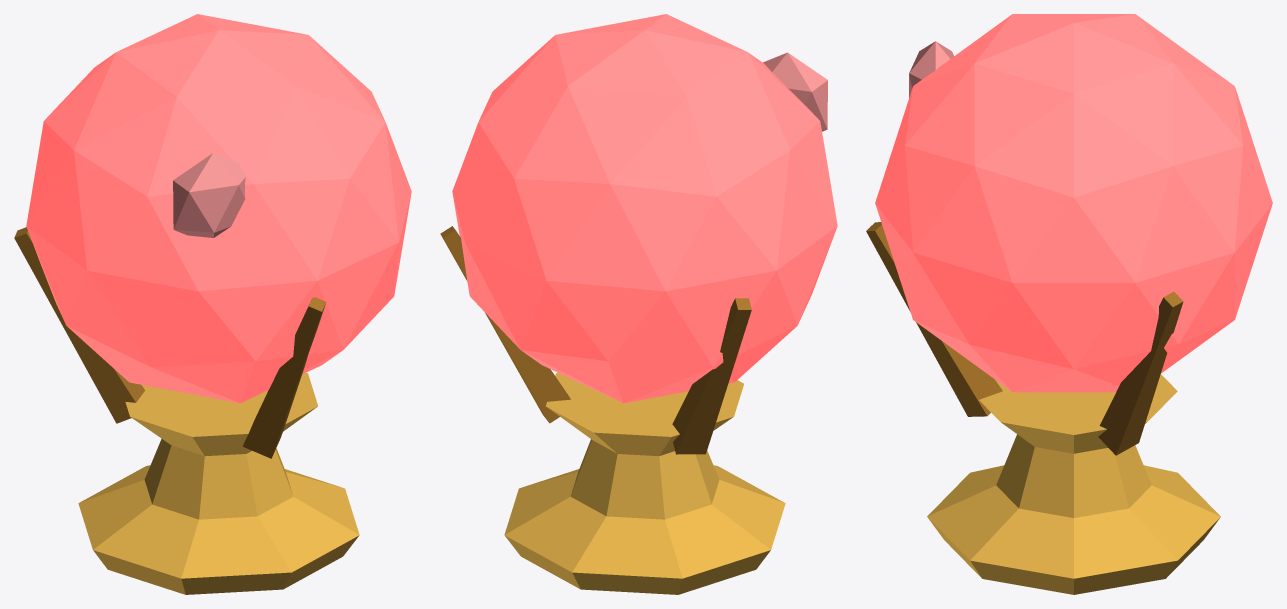
Rendered from orb.glb.
3 renders of one model, left to right at view 1: azimuth 30°, elevation 25°; view 2: azimuth 150°, elevation 25°; view 3: azimuth 270°, elevation 25°, orthographic.
Visible parts, largest first — view 1: orb; view 2: orb; view 3: orb.
Boxes of the visible parts, x1=… form: orb: x1=14, y1=14, x2=411, y2=594; orb: x1=440, y1=14, x2=837, y2=594; orb: x1=866, y1=14, x2=1272, y2=594.
Size of the model in its own units: 0.2187 by 0.33 by 0.2352.
